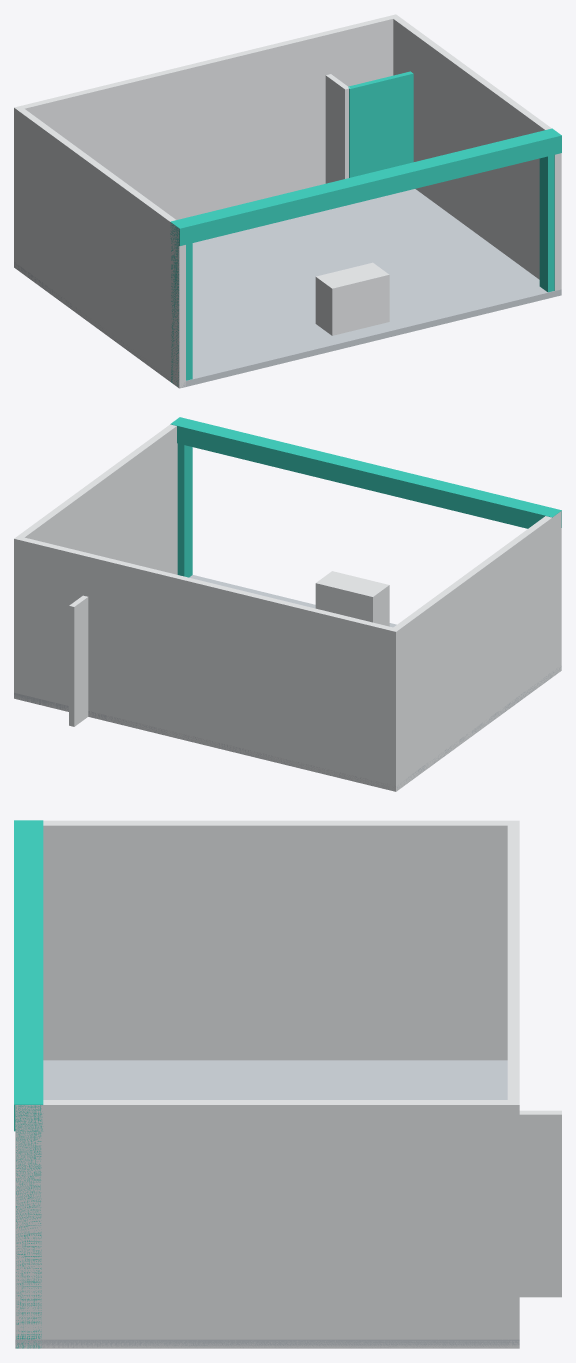
The picture shows the model from 3 angles, top to bottom: view 1: azimuth 30°, elevation 25°; view 2: azimuth 150°, elevation 25°; view 3: azimuth 270°, elevation 25°; orthographic projection. The views are drawn at different scales.
Parts seen in each view (by area): view 1: Exhibition Booth Concept; view 2: Exhibition Booth Concept; view 3: Exhibition Booth Concept.
Part boxes in pixels (bbox=[...]): Exhibition Booth Concept: bbox=[14, 14, 561, 388]; Exhibition Booth Concept: bbox=[14, 417, 561, 791]; Exhibition Booth Concept: bbox=[14, 820, 561, 1348].
Size of the model in its own units: 8 by 3.2 by 6.52.
